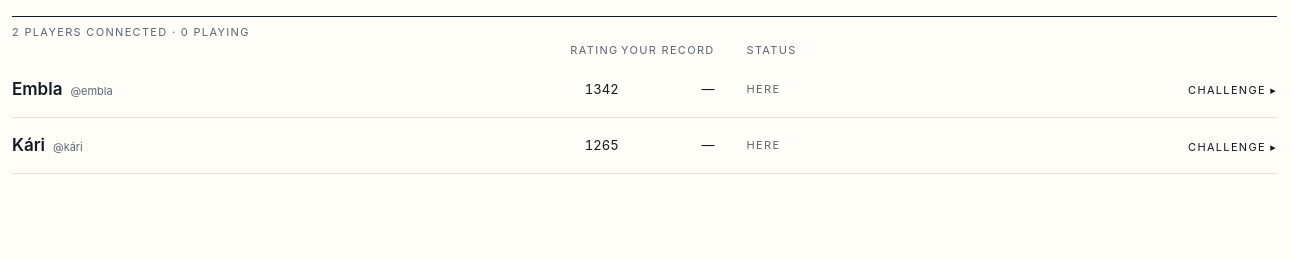
Test: the composer row › closes on Esc or not now and gives focus back to the row's challenge
Step 1. Click the button with aria-label "Embla · challenge" → (1232, 90), box [1188,78,1277,102]
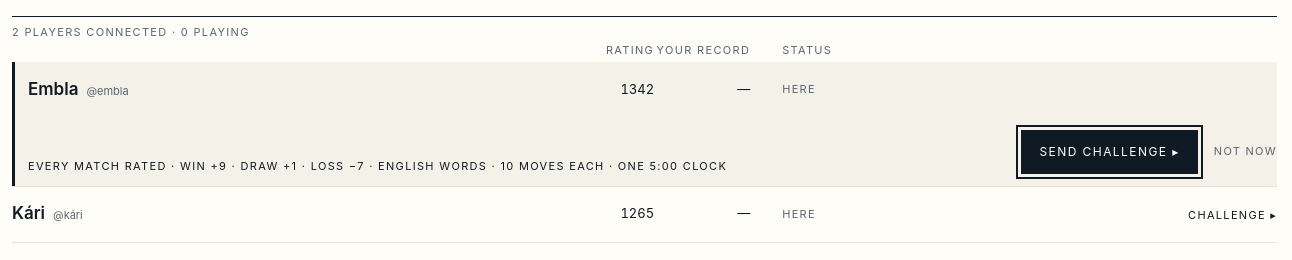
Step 2. Press Escape in the row with test id "composer", box [12,118,1277,186]
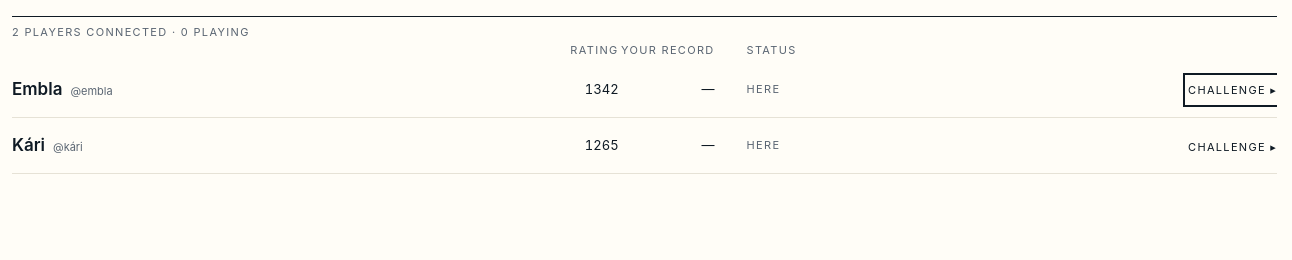
Result: the row with test id "composer" is gone
Step 3. Click the button with aria-label "Embla · challenge" → (1232, 90), box [1188,78,1277,102]
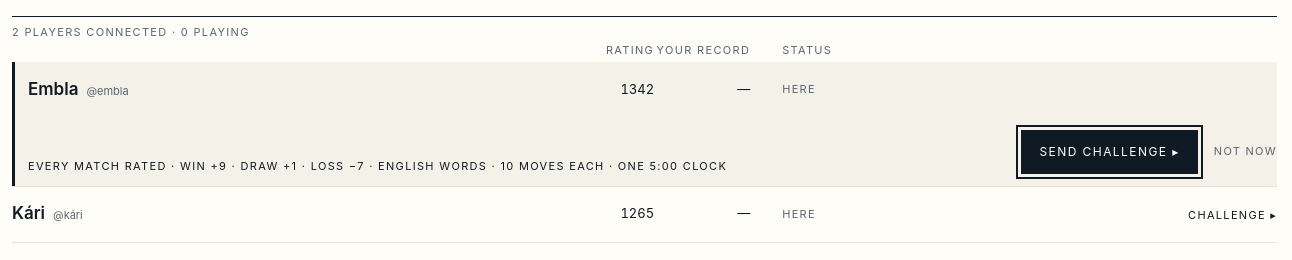
Step 4. Click the button "not now" → (1245, 152), box [1214,140,1277,164]
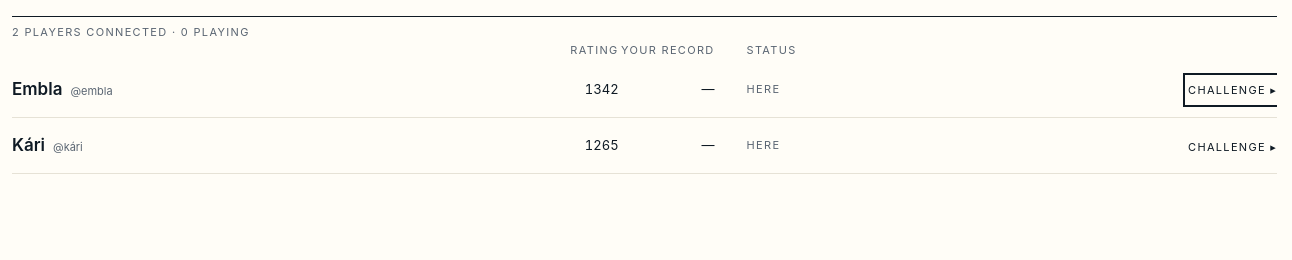
Result: the row with test id "composer" is gone
